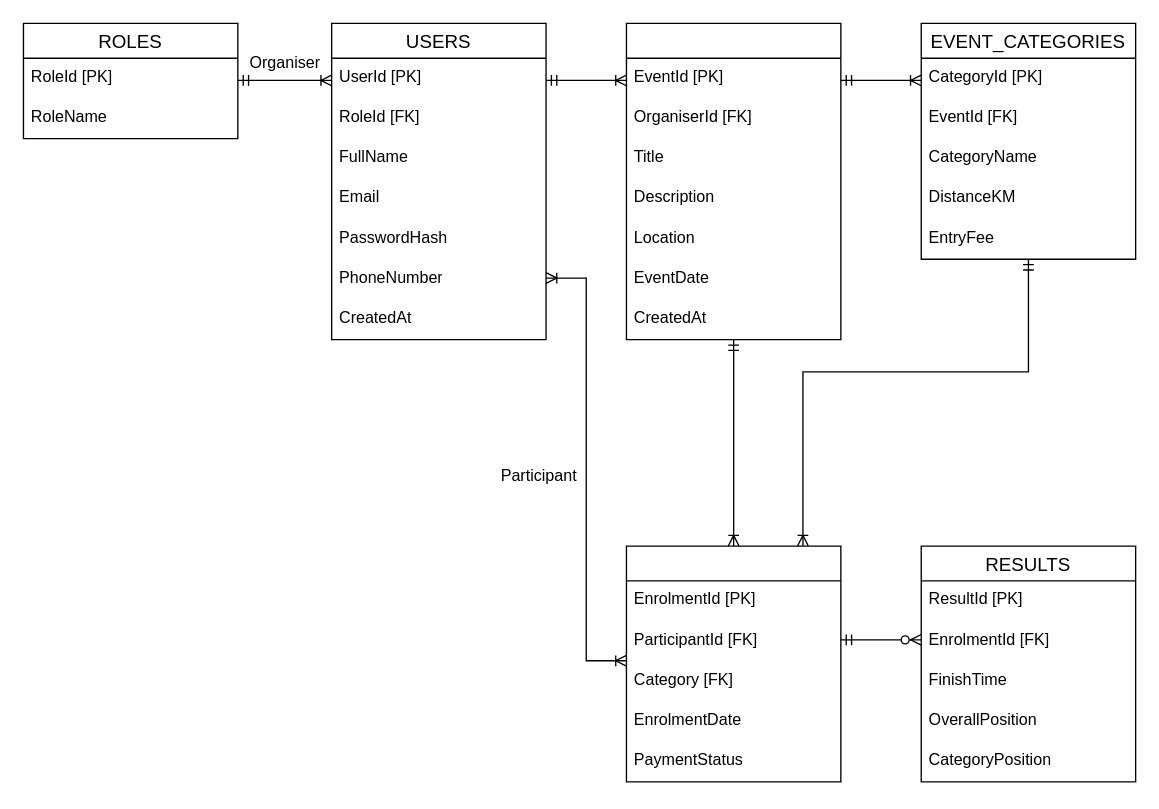
This 1159x809 diagram has some shape labels left out. Here are the shapes that lost their labels. From the top down, the box of each, then its label:
(625, 22, 841, 340): EVENTS
(625, 545, 841, 782): ENROLMENTS
